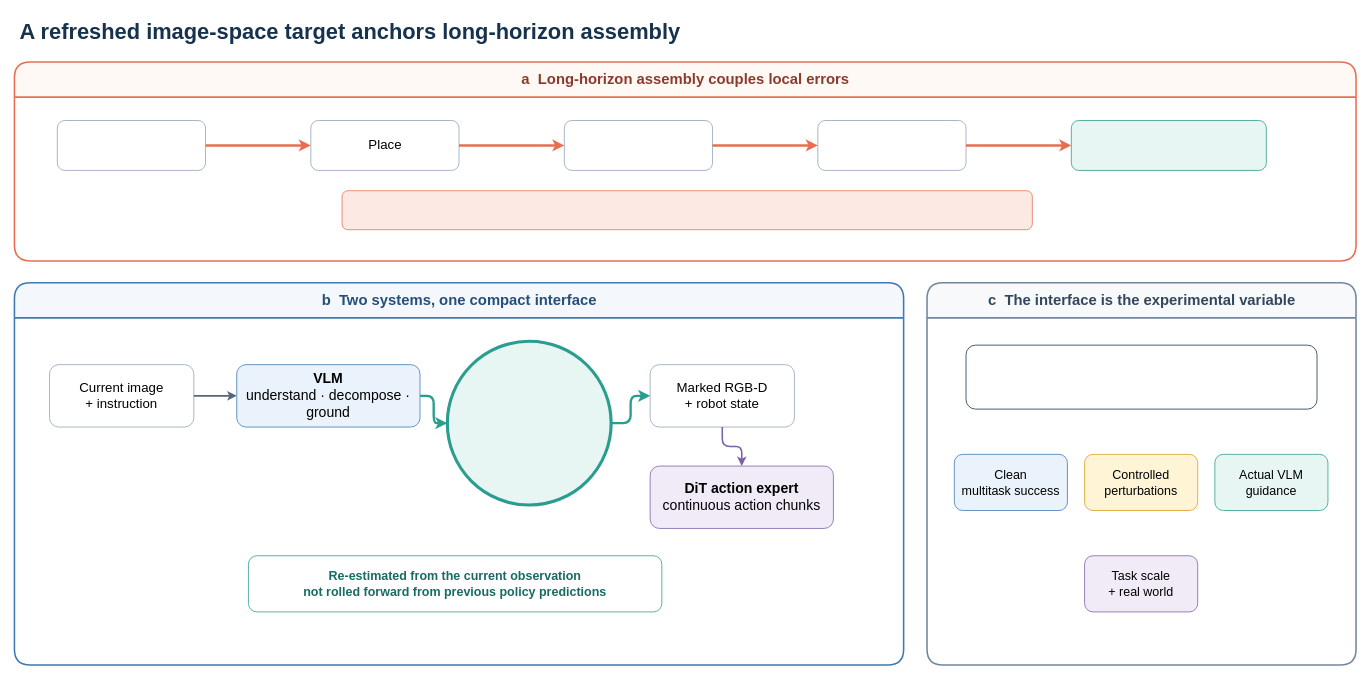
The diagram is 1370 pixels wide and 679 high, and some of its shapes have lost their labels. The shapes that lost their labels are listed below. From the top down, each one's centre as x and y in pixels, then its label:
the point at 131,145: Pick
the point at 638,145: Insert
the point at 891,145: Screw
the point at 1168,145: Assembly success
the point at 686,210: action error → shifted observation → distribution shift → downstream failure
the point at 1141,376: Five conditioning interfaces GP · skill · GP+skill · TAGPoint · 6D grasp
the point at 528,422: TAGPoint where to act + coarse action mode
